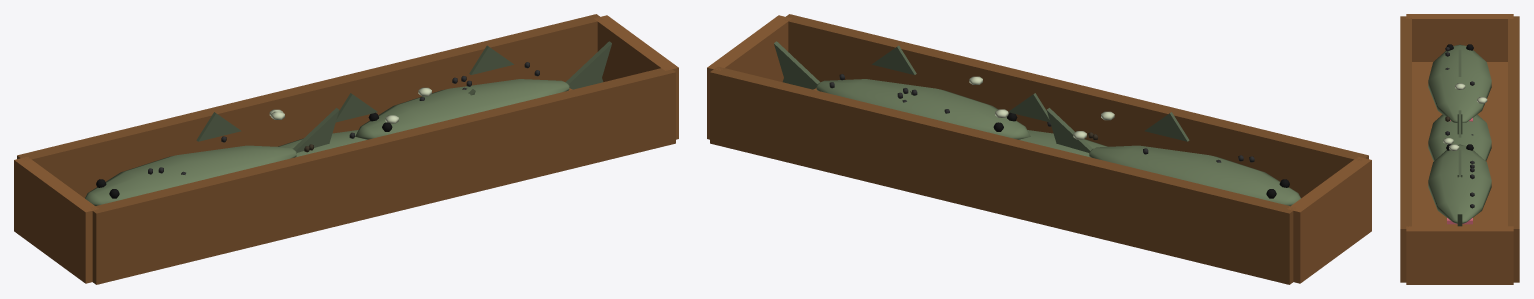
Rendered from Fish_Trout.fbx.
The picture shows the model from 3 angles, left to right: view 1: azimuth 30°, elevation 25°; view 2: azimuth 150°, elevation 25°; view 3: azimuth 270°, elevation 25°; orthographic projection. The views are drawn at different scales.
Visible parts, largest first — view 1: Fish_Trout__Stack, Fish_Trout, Fish_Trout__Rotten; view 2: Fish_Trout__Stack, Fish_Trout, Fish_Trout__Rotten; view 3: Fish_Trout__Stack, Fish_Trout, Fish_Trout__Rotten.
Boxes of the visible parts, x1,y1,x2,y2 form: Fish_Trout__Stack: [14, 14, 678, 284]; Fish_Trout: [278, 89, 475, 156]; Fish_Trout__Rotten: [269, 87, 431, 152]; Fish_Trout__Stack: [707, 14, 1371, 284]; Fish_Trout: [910, 89, 1107, 156]; Fish_Trout__Rotten: [969, 76, 1114, 140]; Fish_Trout__Stack: [1400, 14, 1519, 284]; Fish_Trout: [1428, 110, 1491, 177]; Fish_Trout__Rotten: [1443, 83, 1487, 150].
Size of the model in its own units: 0.348 by 0.0586 by 0.0808.
